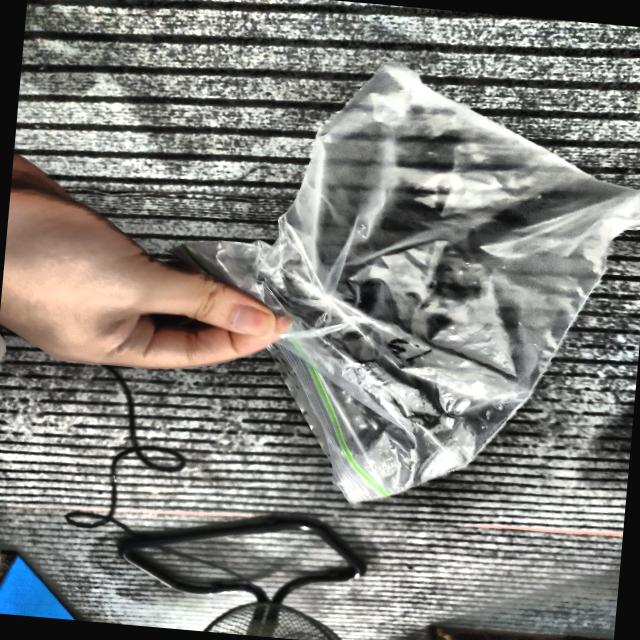plastic bag: (174, 62, 640, 501)
